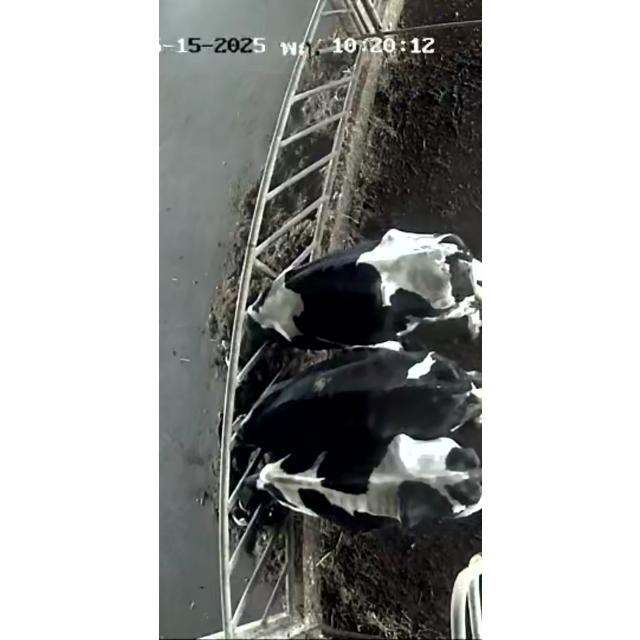eat: (176, 244, 348, 356), (180, 454, 372, 544), (174, 356, 348, 450)
